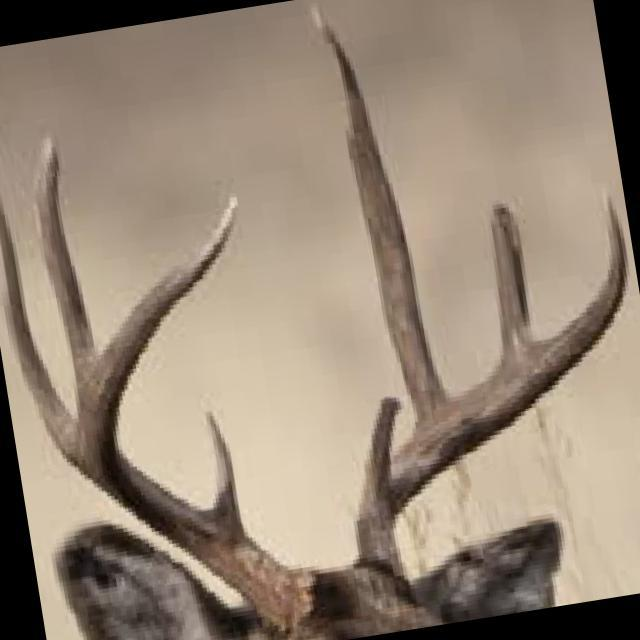L-F: (351, 195, 631, 587)
L-G1: (362, 395, 405, 515)
L-G2: (309, 1, 452, 426)
L-G3: (488, 200, 534, 364)
R-F: (79, 194, 316, 631)
R-G1: (205, 408, 244, 534)
R-G2: (0, 196, 84, 472)
